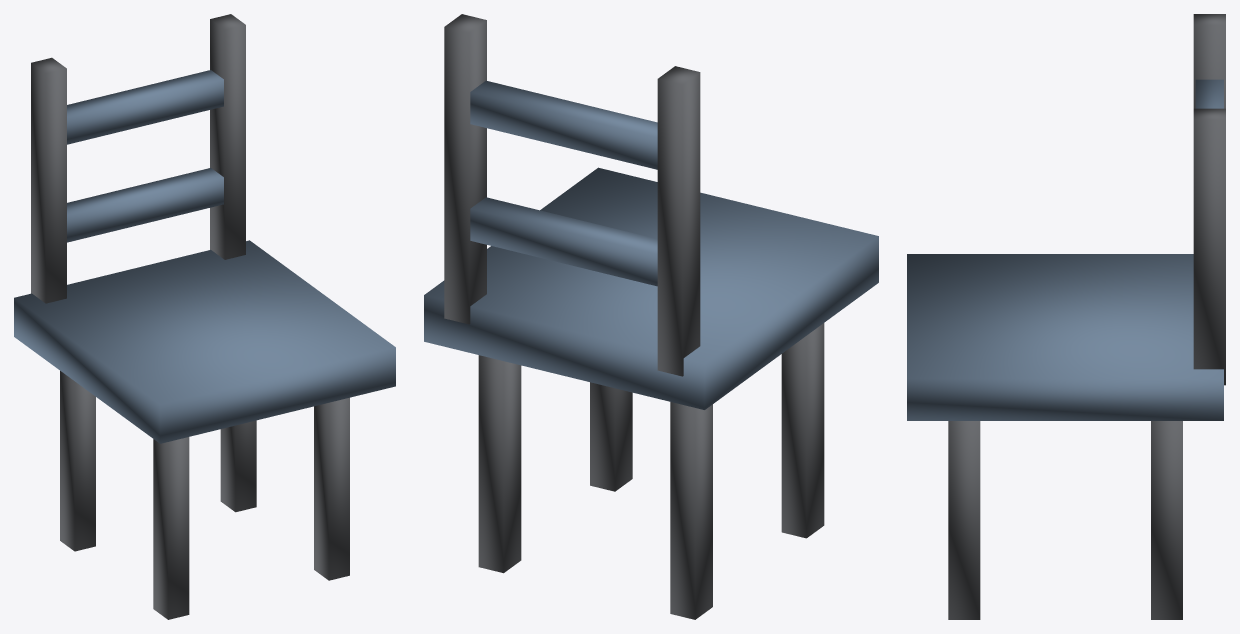
The model's file is interview_chair__deep.glb.
3 views of the same model, side by side, from view 1: azimuth 30°, elevation 25°; view 2: azimuth 150°, elevation 25°; view 3: azimuth 270°, elevation 25° (orthographic). The views are drawn at different scales.
Visible parts, largest first — view 1: world; view 2: world; view 3: world.
Part boxes in pixels (bbox=[...]): world: bbox=[14, 14, 395, 619]; world: bbox=[424, 14, 878, 619]; world: bbox=[907, 14, 1225, 619].
Size of the model in its own units: 0.5037 by 0.9515 by 0.5443.
